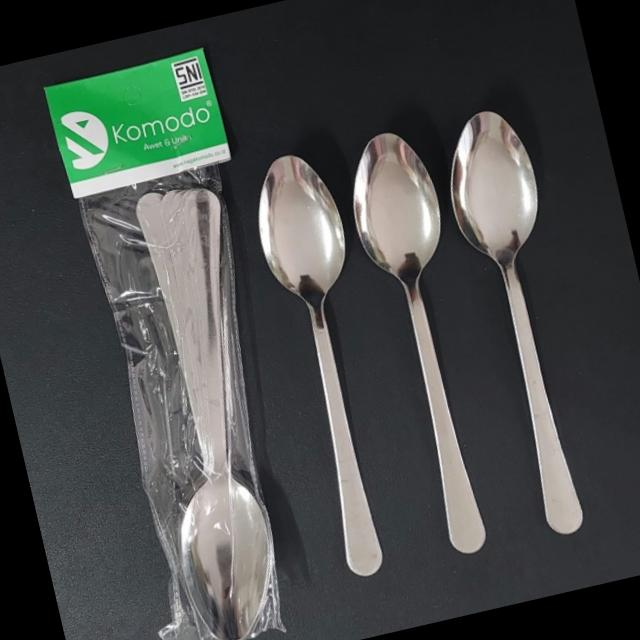spoon: (424, 92, 624, 546)
